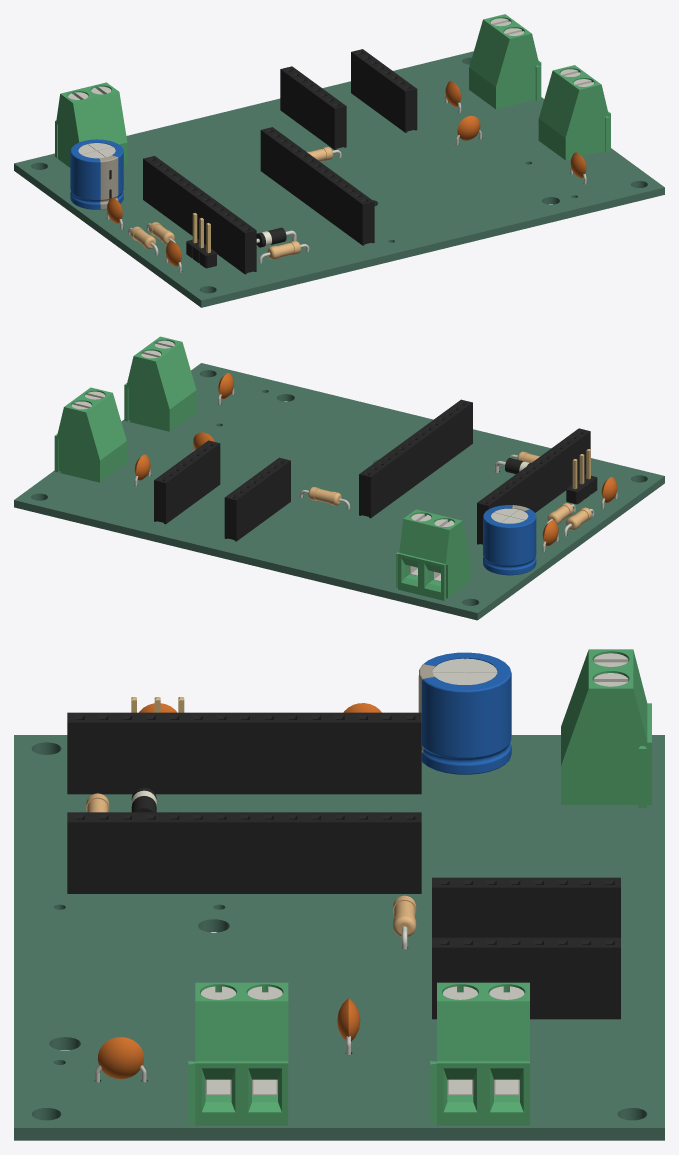
File: pcb.glb
3 renders of one model, top to bottom at view 1: azimuth 30°, elevation 25°; view 2: azimuth 150°, elevation 25°; view 3: azimuth 270°, elevation 25°, orthographic. The views are drawn at different scales.
Visible parts, largest first — view 1: =>[0:1:1:18], =>[0:1:1:9] (×3), =>[0:1:1:13] (×2), =>[0:1:1:5] (×2), =>[0:1:1:15], =>[0:1:1:17], =>[0:1:1:7], =>[0:1:1:3], =>[0:1:1:11]; view 2: =>[0:1:1:18], =>[0:1:1:9] (×3), =>[0:1:1:13] (×2), =>[0:1:1:5] (×2), =>[0:1:1:15], =>[0:1:1:17], =>[0:1:1:3]; view 3: =>[0:1:1:18], =>[0:1:1:13] (×2), =>[0:1:1:9] (×3), =>[0:1:1:5] (×2), =>[0:1:1:15], =>[0:1:1:11] (×2), =>[0:1:1:3].
Part boxes in pixels (left/top/right/bottom): =>[0:1:1:18]: left=14, top=51, right=664, bottom=307; =>[0:1:1:9] (×3): left=55, top=14, right=610, bottom=167; =>[0:1:1:13] (×2): left=143, top=127, right=374, bottom=274; =>[0:1:1:5] (×2): left=280, top=49, right=417, bottom=149; =>[0:1:1:15]: left=70, top=139, right=123, bottom=209; =>[0:1:1:17]: left=186, top=213, right=216, bottom=268; =>[0:1:1:7]: left=256, top=227, right=296, bottom=247; =>[0:1:1:3]: left=259, top=241, right=309, bottom=263; =>[0:1:1:11]: left=456, top=116, right=481, bottom=144; =>[0:1:1:18]: left=14, top=363, right=664, bottom=620; =>[0:1:1:9] (×3): left=54, top=336, right=470, bottom=600; =>[0:1:1:13] (×2): left=359, top=399, right=590, bottom=544; =>[0:1:1:5] (×2): left=154, top=440, right=290, bottom=541; =>[0:1:1:15]: left=483, top=505, right=536, bottom=575; =>[0:1:1:17]: left=566, top=449, right=597, bottom=504; =>[0:1:1:3]: left=300, top=487, right=350, bottom=509; =>[0:1:1:18]: left=14, top=735, right=664, bottom=1140; =>[0:1:1:13] (×2): left=67, top=712, right=421, bottom=893; =>[0:1:1:9] (×3): left=188, top=649, right=651, bottom=1125; =>[0:1:1:5] (×2): left=432, top=877, right=620, bottom=1019; =>[0:1:1:15]: left=418, top=652, right=511, bottom=774; =>[0:1:1:11] (×2): left=95, top=998, right=360, bottom=1082; =>[0:1:1:3]: left=393, top=895, right=416, bottom=949.
Bounding box in the file's own units: 0.1 × 0.0173 × 0.07.
